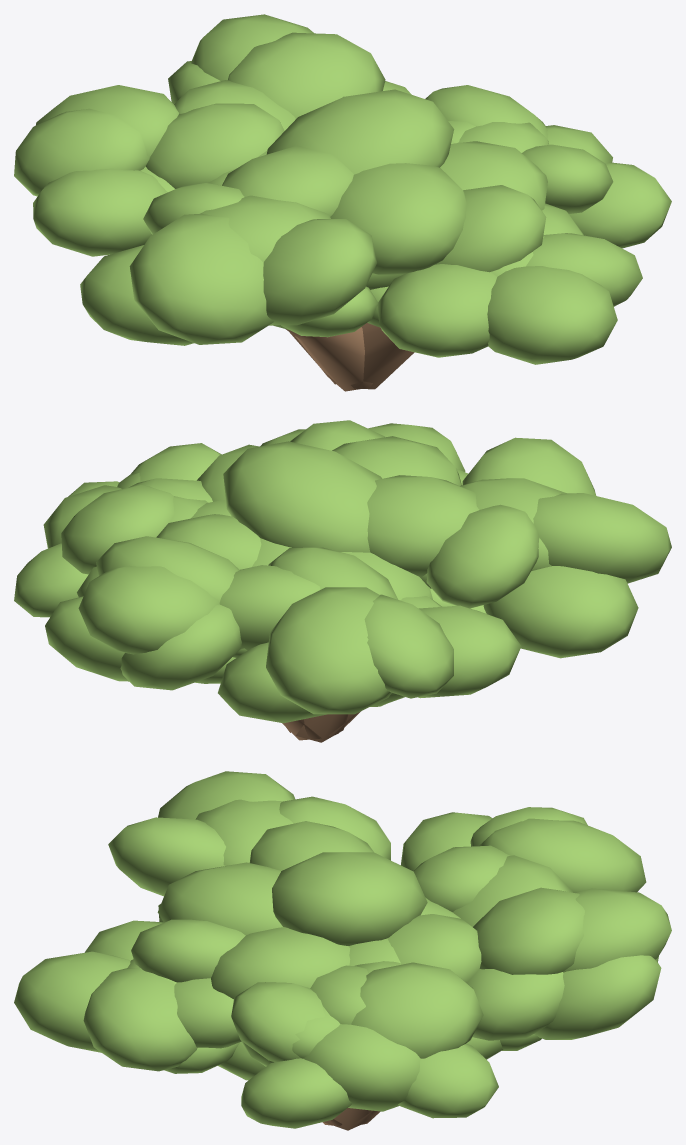
The model's file is canopy_crown.glb.
3 renders of one model, top to bottom at view 1: azimuth 30°, elevation 25°; view 2: azimuth 150°, elevation 25°; view 3: azimuth 270°, elevation 25°, orthographic. The views are drawn at different scales.
Visible parts, largest first — view 1: SM_Forest_CanopyCrown; view 2: SM_Forest_CanopyCrown; view 3: SM_Forest_CanopyCrown.
Part boxes in pixels (x1,y1,x2,y2): SM_Forest_CanopyCrown: (14, 14, 671, 391); SM_Forest_CanopyCrown: (14, 420, 671, 742); SM_Forest_CanopyCrown: (14, 771, 671, 1130).
Size of the model in its own units: 15.85 by 7.37 by 16.39.
